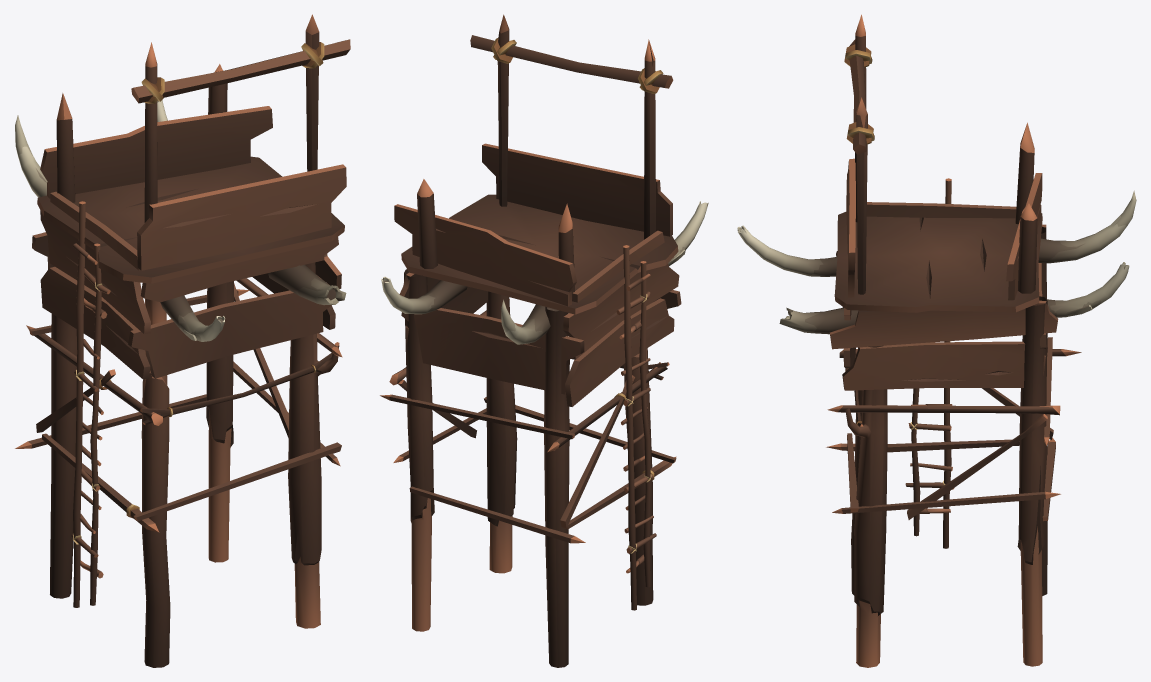
Rendered from Tower_1C.fbx.
3 views of the same model, side by side, from view 1: azimuth 30°, elevation 25°; view 2: azimuth 150°, elevation 25°; view 3: azimuth 270°, elevation 25° (orthographic). The views are drawn at different scales.
Parts seen in each view (by area): view 1: Tower_1C; view 2: Tower_1C; view 3: Tower_1C.
Part boxes in pixels (x1,y1,x2,y2): Tower_1C: (15,14,350,667); Tower_1C: (380,14,708,667); Tower_1C: (737,14,1136,667).
Size of the model in its own units: 4.8 by 12.11 by 7.59.
